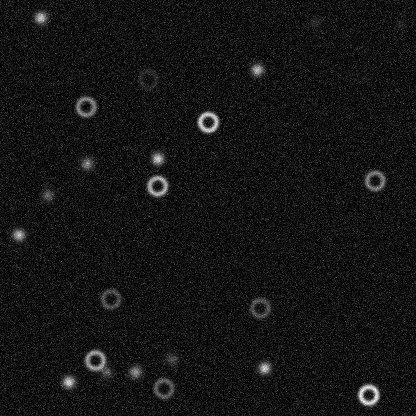Ring: (73, 94, 97, 118), (195, 109, 219, 133), (145, 173, 169, 197), (356, 382, 380, 406), (247, 295, 271, 319), (98, 286, 122, 310), (362, 168, 386, 192), (83, 348, 107, 372), (151, 376, 175, 400), (136, 67, 160, 91)
Spot: (39, 187, 55, 203), (163, 351, 179, 367), (391, 16, 407, 32), (149, 150, 165, 166), (249, 61, 265, 77), (127, 363, 143, 379), (307, 14, 323, 30), (98, 363, 114, 379), (256, 360, 272, 376), (32, 9, 48, 25), (60, 373, 76, 389), (78, 155, 94, 171), (10, 226, 26, 242)
